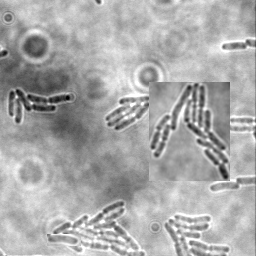Dividing: (221, 41, 248, 52)
Microcolony: (149, 82, 230, 181), (51, 200, 147, 255), (162, 212, 231, 255), (8, 89, 72, 126), (106, 96, 149, 132), (47, 234, 81, 246), (208, 182, 240, 193)
